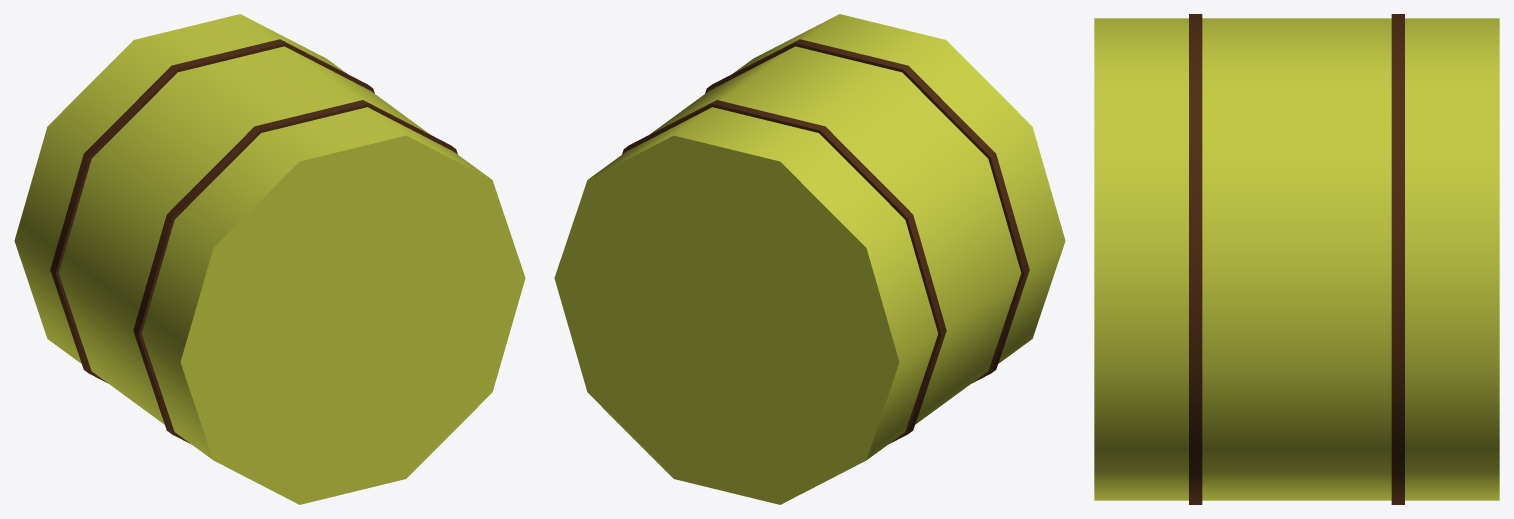
Rendered from СтогСена1.FBX.
The picture shows the model from 3 angles, left to right: view 1: azimuth 30°, elevation 25°; view 2: azimuth 150°, elevation 25°; view 3: azimuth 270°, elevation 25°; orthographic projection. The views are drawn at different scales.
Parts seen in each view (by area): view 1: Cylinder001; view 2: Cylinder001; view 3: Cylinder001.
Part boxes in pixels (x1,y1,x2,y2): Cylinder001: (14,14,525,504); Cylinder001: (554,14,1065,504); Cylinder001: (1094,14,1499,504).
Size of the model in its own units: 61.05 by 58.06 by 50.
